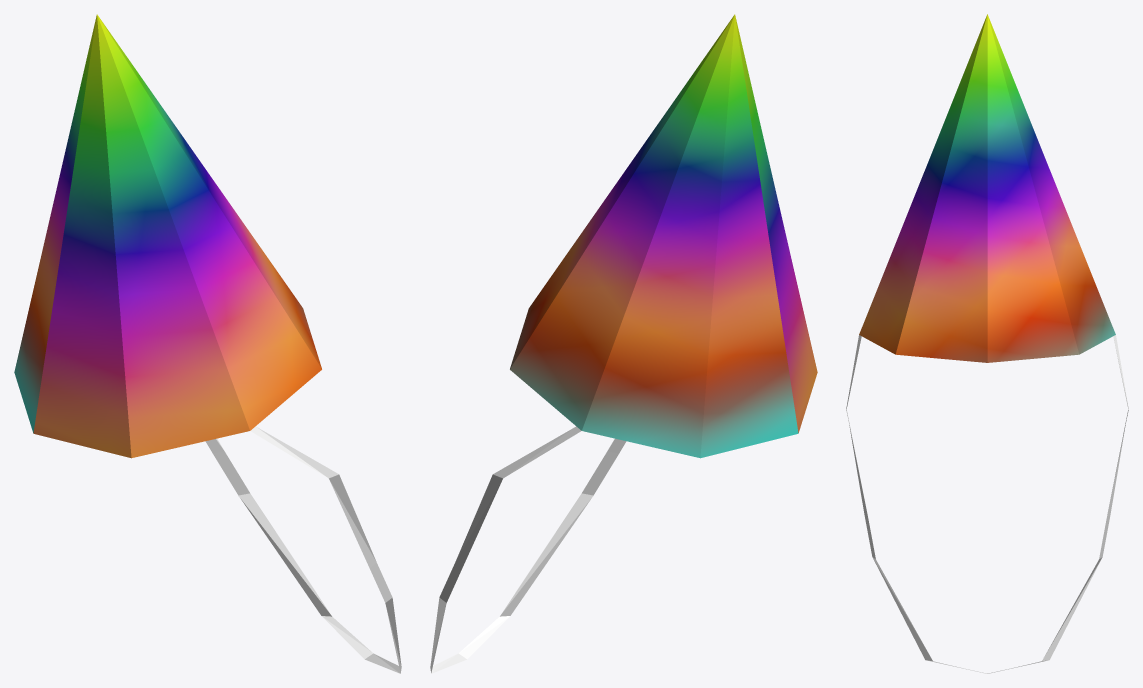
File: PARTY HAT.fbx
3 views of the same model, side by side, from view 1: azimuth 30°, elevation 25°; view 2: azimuth 150°, elevation 25°; view 3: azimuth 270°, elevation 25° (orthographic). The views are drawn at different scales.
Visible parts, largest first — view 1: PARTY_HAT; view 2: PARTY_HAT; view 3: PARTY_HAT.
Boxes of the visible parts, box(x1,y1,x2,y2) form: PARTY_HAT: box(14, 14, 401, 673); PARTY_HAT: box(430, 14, 817, 673); PARTY_HAT: box(846, 14, 1128, 673).
Size of the model in its own units: 26.39 by 52.7 by 24.19.
